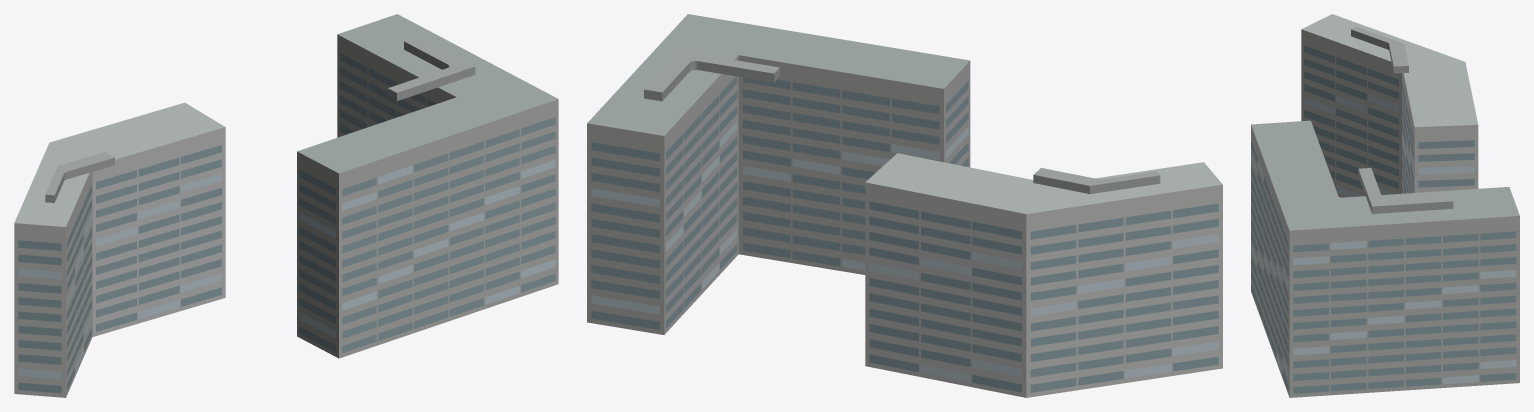
Rendered from apt-a12208203.glb.
3 renders of one model, left to right at view 1: azimuth 30°, elevation 25°; view 2: azimuth 150°, elevation 25°; view 3: azimuth 270°, elevation 25°, orthographic. The views are drawn at different scales.
Visible parts, largest first — view 1: apt-a12208203; view 2: apt-a12208203; view 3: apt-a12208203.
Boxes of the visible parts, x1,y1,x2,y2 form: apt-a12208203: [14, 14, 558, 397]; apt-a12208203: [587, 14, 1222, 397]; apt-a12208203: [1251, 14, 1519, 397].
Size of the model in its own units: 117 by 41.43 by 57.8.
